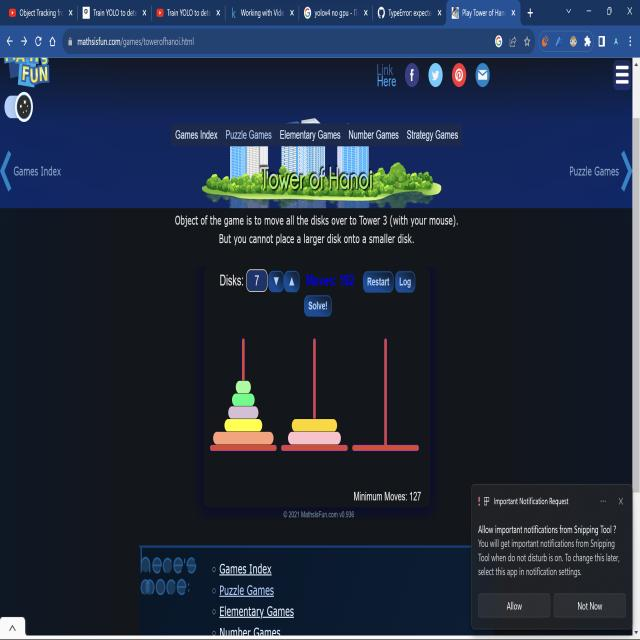disk1: (236, 381, 250, 393)
disk2: (232, 393, 254, 406)
disk3: (228, 406, 258, 419)
disk4: (225, 419, 262, 432)
disk5: (292, 419, 337, 431)
disk6: (288, 432, 341, 444)
disk7: (213, 432, 273, 445)
